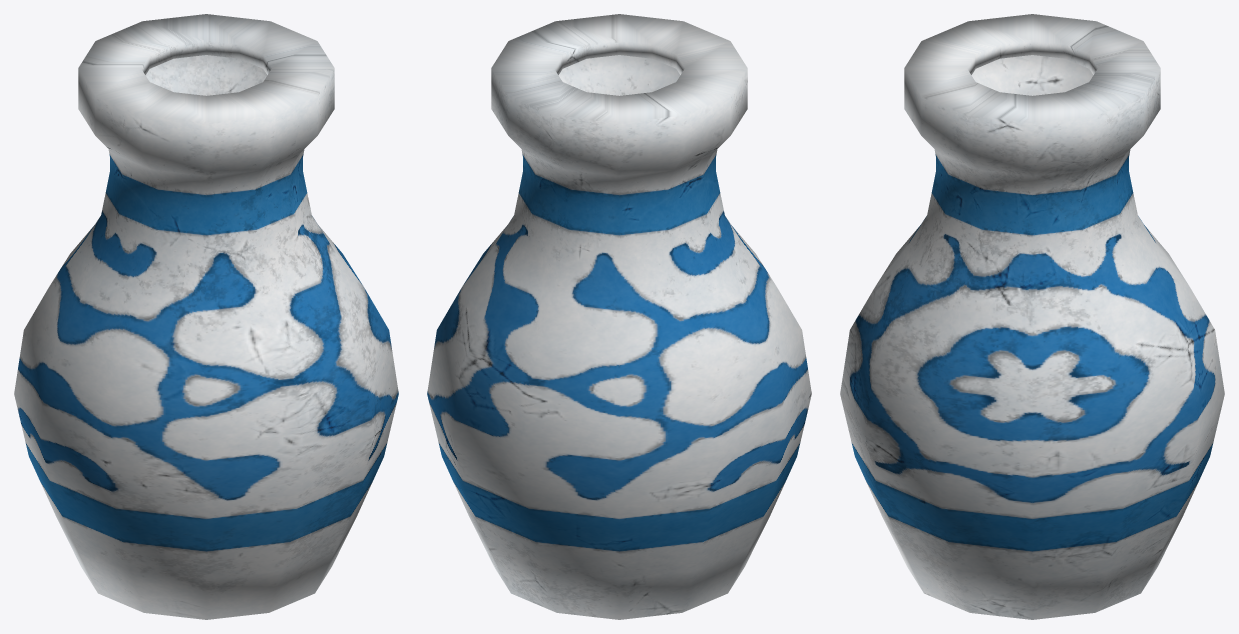
File: Vase.fbx
3 views of the same model, side by side, from view 1: azimuth 30°, elevation 25°; view 2: azimuth 150°, elevation 25°; view 3: azimuth 270°, elevation 25° (orthographic).
Parts seen in each view (by area): view 1: Vase; view 2: Vase; view 3: Vase.
Part boxes in pixels (x1,y1,x2,y2): Vase: (14,14,398,619); Vase: (427,14,811,619); Vase: (840,14,1224,619).
Bounding box in the file's own units: 1.05 × 1.05 × 1.5.
1 material, 1 textured.
